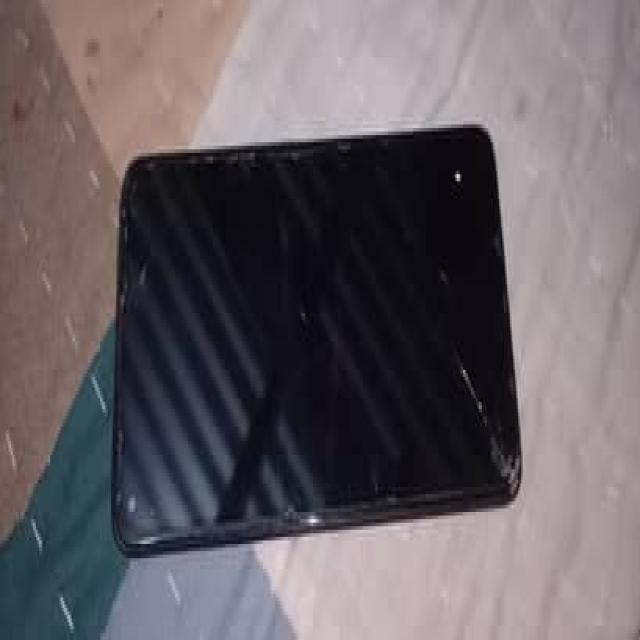mobile phone: (108, 117, 524, 558)
